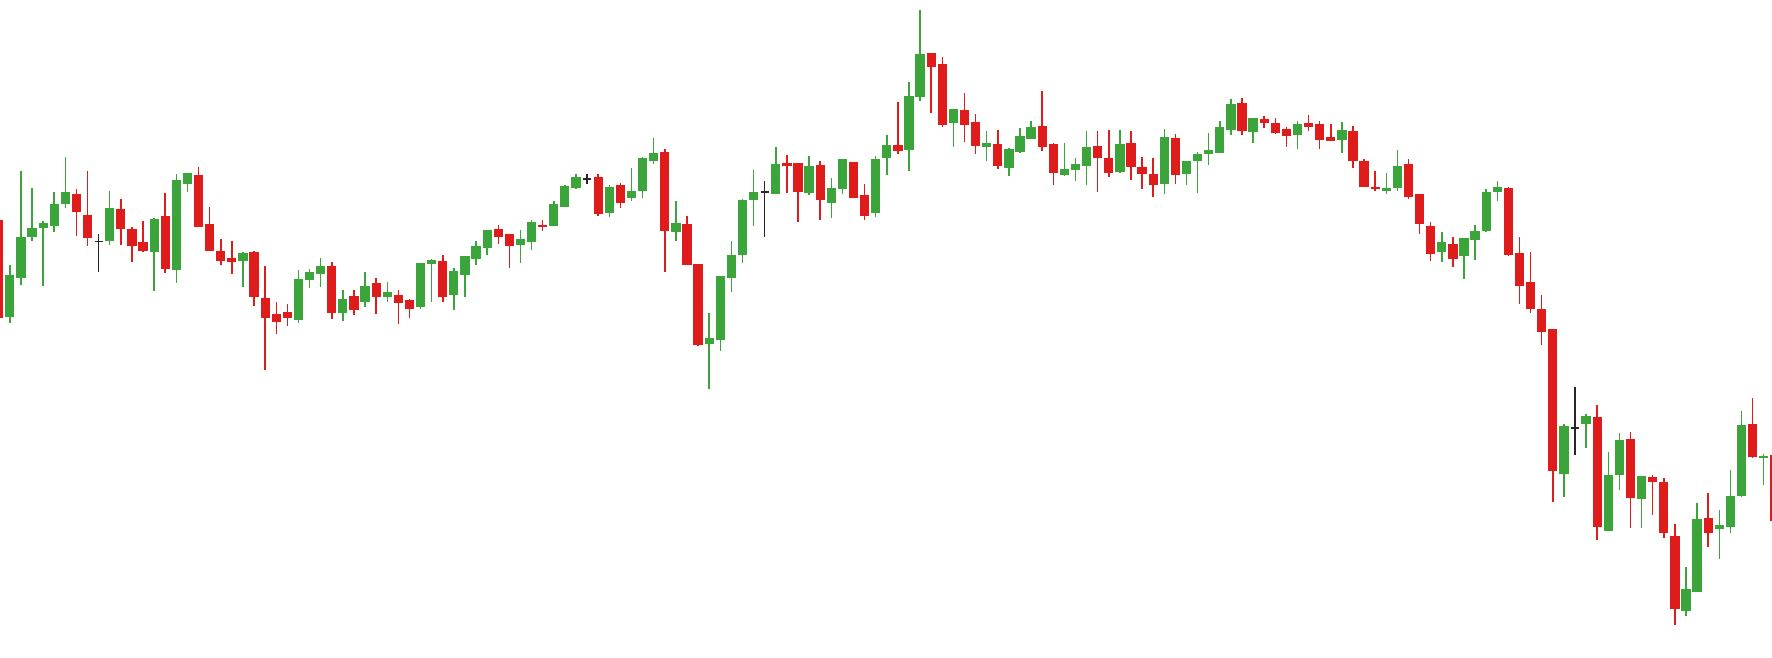buy: (435, 213, 728, 389)
